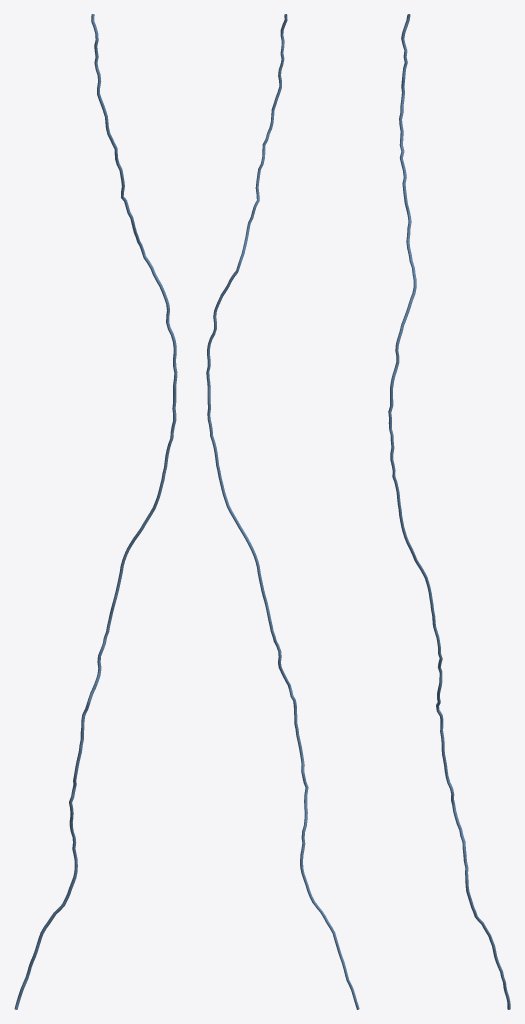
File: sweep64.fbx
3 renders of one model, left to right at view 1: azimuth 30°, elevation 25°; view 2: azimuth 210°, elevation 25°; view 3: azimuth 270°, elevation 25°, orthographic. The views are drawn at different scales.
Parts seen in each view (by area): view 1: sweep64; view 2: sweep64; view 3: sweep64.
Part boxes in pixels (x1,y1,x2,y2): sweep64: [14, 14, 177, 1009]; sweep64: [206, 14, 359, 1009]; sweep64: [388, 14, 510, 1009].
Bounding box in the file's own units: 0.7166 × 6.89 × 0.7591.
